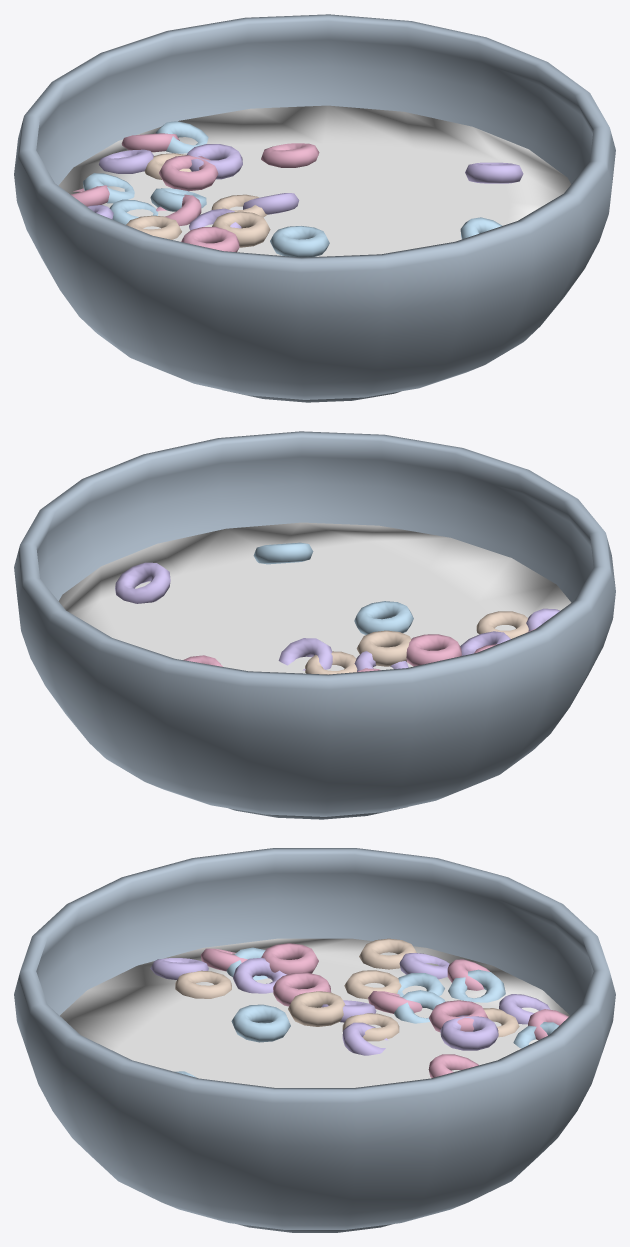
File: Cereal_mesh.fbx
3 renders of one model, top to bottom at view 1: azimuth 30°, elevation 25°; view 2: azimuth 150°, elevation 25°; view 3: azimuth 270°, elevation 25°, orthographic.
Parts seen in each view (by area): view 1: Cereal_mesh; view 2: Cereal_mesh; view 3: Cereal_mesh.
Part boxes in pixels (x1,y1,x2,y2): Cereal_mesh: [14, 14, 615, 402]; Cereal_mesh: [14, 431, 615, 819]; Cereal_mesh: [14, 848, 615, 1232].
Size of the model in its own units: 46.08 by 17.11 by 46.55.
